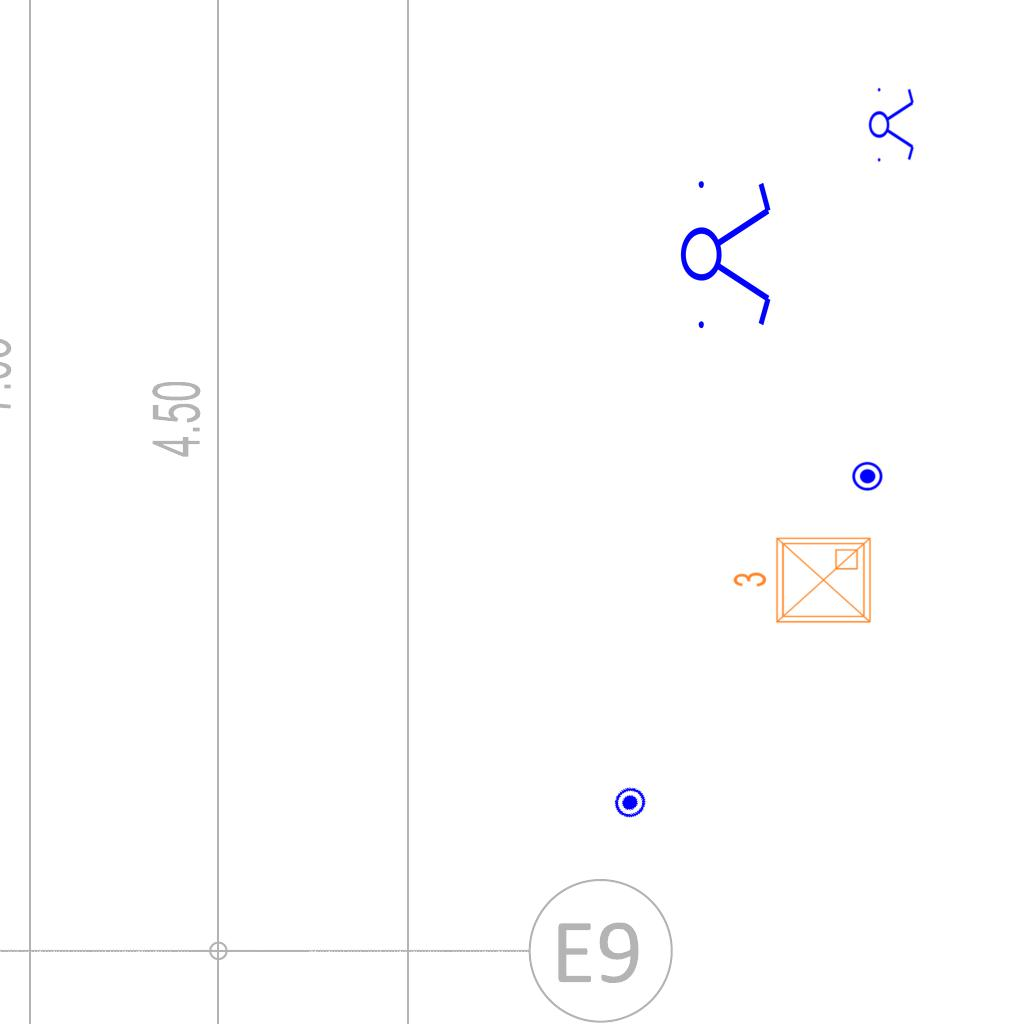Einbaudownlights_LED_Konferenzraeume: (728, 530, 878, 634)
Serienschalter: (679, 169, 775, 337), (868, 82, 916, 166)
Taster: (607, 779, 652, 824), (851, 461, 884, 494)
